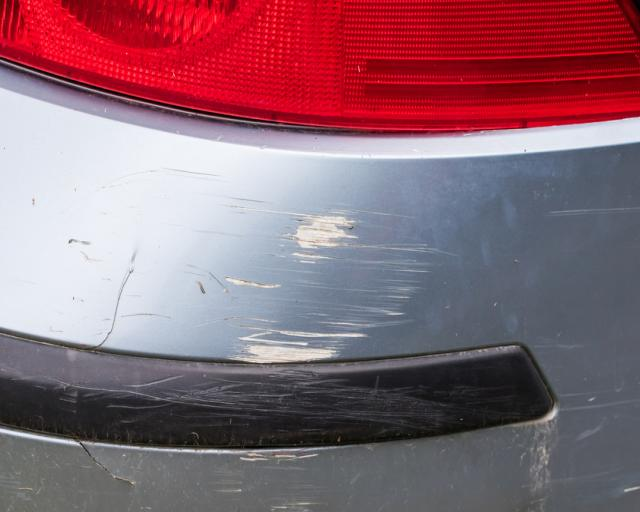crack: (71, 437, 134, 487)
scratch: (136, 165, 448, 363), (64, 369, 463, 429), (207, 448, 343, 512)
